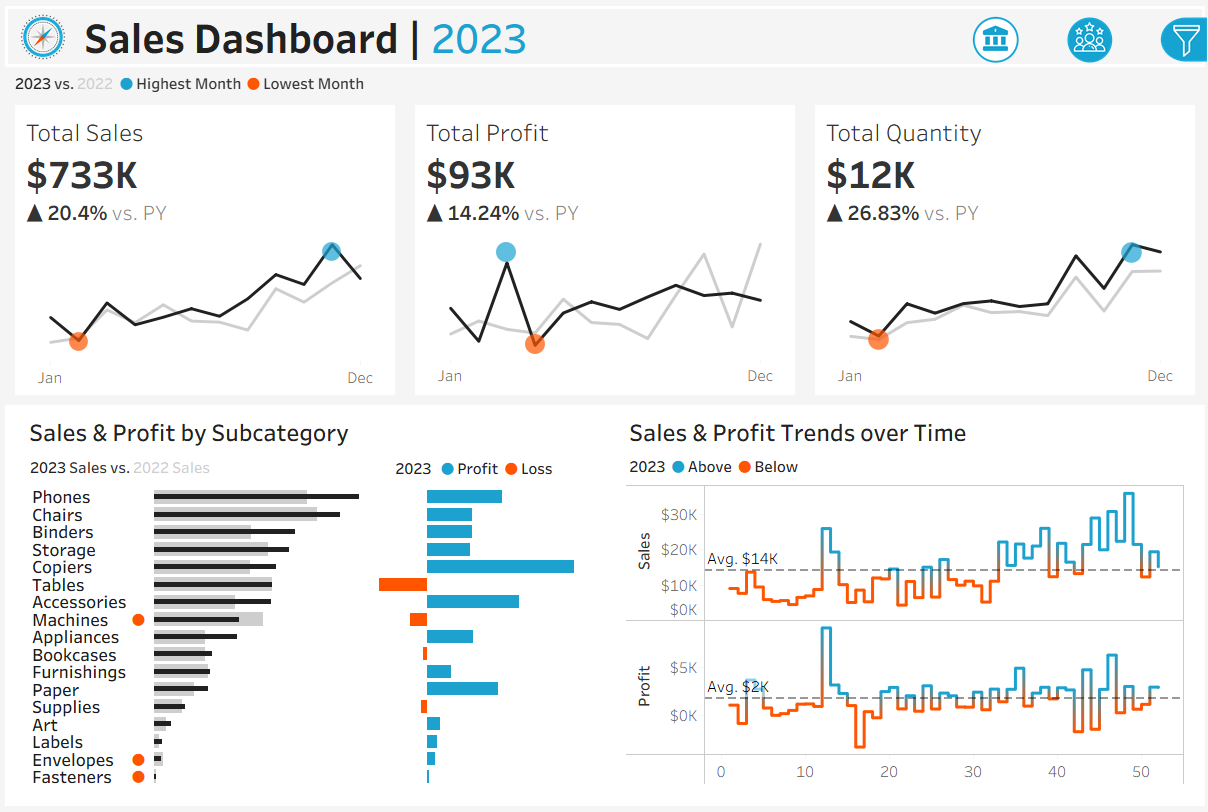

This screenshot's page, from the dashboard's own definition file:
{"tool":"tableau","page":{"name":"Sales Dashboard","canvas":[1200,800],"ordinal":1},"visuals":[{"type":"image","param":"Image/Icon - Logo.png","box":[3,3,69,55]},{"type":"text","box":[72,3,826,55]},{"type":"dashboard-object","box":[943,6,94,55]},{"type":"dashboard-object","box":[1037,6,94,55]},{"type":"text","box":[964,10,225,130]},{"type":"worksheet","title":"Legend KPI","mark":"Automatic","box":[0,61,1200,38]},{"type":"worksheet","title":"KPI Sales","mark":"Automatic","rows":["Calculation_1053366693937157"],"cols":["Order Date"],"box":[0,99,400,300]},{"type":"worksheet","title":"KPI Profit","mark":"Automatic","rows":["Min/Max Sales (copy)_1150673809801222"],"cols":["Order Date"],"box":[400,99,400,300]},{"type":"worksheet","title":"KPI Quantity","mark":"Automatic","rows":["Calculation_1053366693937157"],"cols":["Order Date"],"box":[800,99,400,300]},{"type":"parameter","param":"[Parameters].[Parameter 1]","box":[964,140,225,56]},{"type":"text","box":[964,196,225,33]},{"type":"filter","title":"KPI Sales","param":"[federated.0gbk7bk04domhm1fcnfgo03u82ke].[none:Category:nk]","box":[964,229,225,61]},{"type":"filter","title":"KPI Sales","param":"[federated.0gbk7bk04domhm1fcnfgo03u82ke].[none:Sub-Category:nk]","box":[964,290,225,61]},{"type":"blank","box":[964,351,225,45]},{"type":"text","box":[964,396,225,33]},{"type":"text","box":[17,406,566,40]},{"type":"text","box":[617,406,566,40]},{"type":"filter","title":"KPI Sales","param":"[federated.0gbk7bk04domhm1fcnfgo03u82ke].[none:Region:nk]","box":[964,429,225,61]},{"type":"worksheet","title":"Legend Subcategory","mark":"Automatic","box":[17,446,366,32]},{"type":"text","box":[383,446,200,32]},{"type":"text","box":[617,446,566,29]},{"type":"worksheet","title":"Weekly Trends","mark":"Automatic","rows":["Calculation_1053366687813632","Calculation_1150673802547202"],"cols":["Order Date"],"box":[617,475,566,308]},{"type":"worksheet","title":"Subcategory Comparison","mark":"Bar","rows":["Sub-Category","Calculation_1285639088488448"],"cols":["Current Year Sales (copy)_1053366688313346","Calculation_1053366687813632","Calculation_1150673802547202"],"box":[17,478,566,304.9]},{"type":"filter","title":"KPI Sales","param":"[federated.0gbk7bk04domhm1fcnfgo03u82ke].[none:State:nk]","box":[964,490,225,61]},{"type":"filter","title":"KPI Sales","param":"[federated.0gbk7bk04domhm1fcnfgo03u82ke].[none:City:nk]","box":[964,551,225,61]}]}

Visuals, with their boxes in screenshot pixels (x1, y1, x2, y2), scaled from the page's 1200x800 canvas onto the 1208x812 screenshot:
image: (3,3,72,59)
text: (72,3,904,59)
dashboard-object: (949,6,1044,62)
dashboard-object: (1044,6,1139,62)
text: (970,10,1197,142)
"Legend KPI" worksheet: (0,62,1207,100)
"KPI Sales" worksheet: (0,100,403,405)
"KPI Profit" worksheet: (403,100,805,405)
"KPI Quantity" worksheet: (805,100,1207,405)
parameter: (970,142,1197,199)
text: (970,199,1197,232)
"KPI Sales" filter: (970,232,1197,294)
"KPI Sales" filter: (970,294,1197,356)
blank: (970,356,1197,402)
text: (970,402,1197,435)
text: (17,412,587,453)
text: (621,412,1191,453)
"KPI Sales" filter: (970,435,1197,497)
"Legend Subcategory" worksheet: (17,453,386,485)
text: (386,453,587,485)
text: (621,453,1191,482)
"Weekly Trends" worksheet: (621,482,1191,795)
"Subcategory Comparison" worksheet (Bar marks): (17,485,587,795)
"KPI Sales" filter: (970,497,1197,559)
"KPI Sales" filter: (970,559,1197,621)
